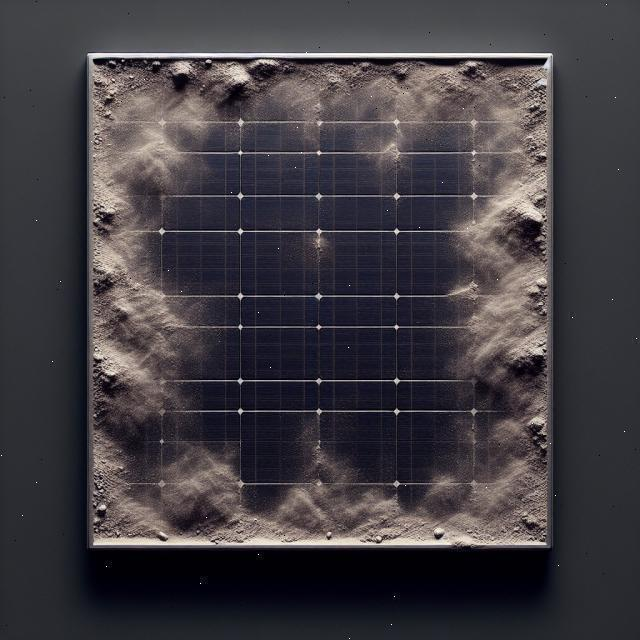Anomaly Solar Panel: (89, 57, 550, 543)
Surface Contaminant: (89, 59, 547, 540)
